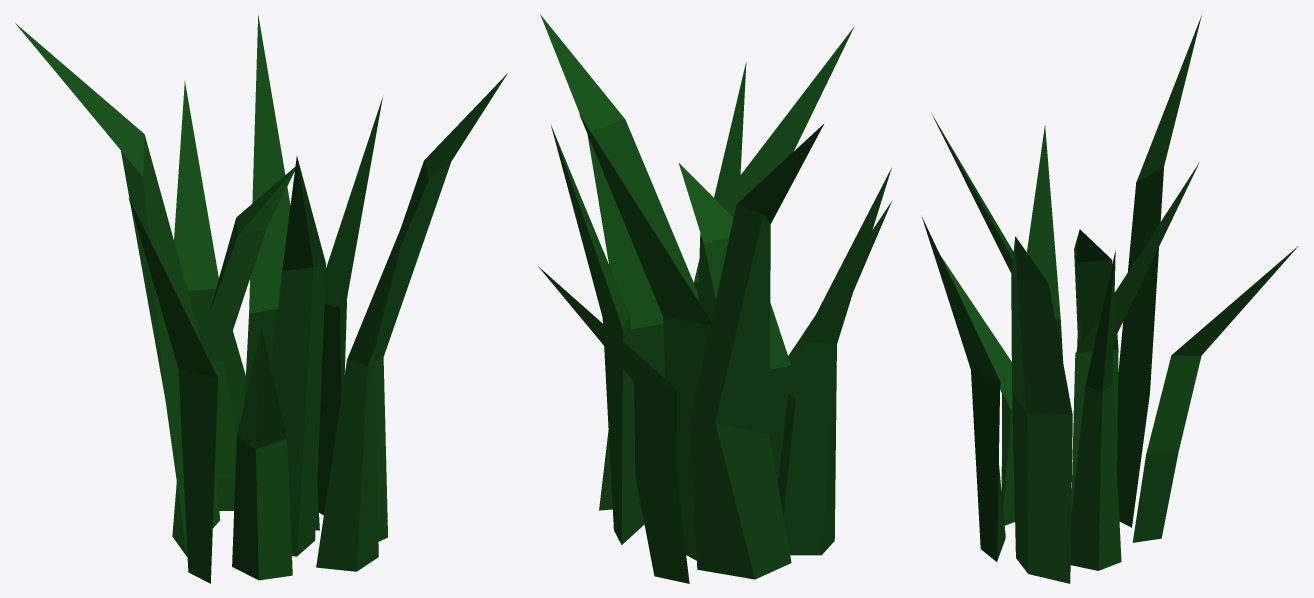
The model's file is grass 3.fbx.
3 views of the same model, side by side, from view 1: azimuth 30°, elevation 25°; view 2: azimuth 150°, elevation 25°; view 3: azimuth 270°, elevation 25° (orthographic). The views are drawn at different scales.
Parts seen in each view (by area): view 1: grass.002; view 2: grass.002; view 3: grass.002.
Boxes of the visible parts, box(x1,y1,x2,y2) form: grass.002: box(15, 15, 507, 583); grass.002: box(538, 14, 892, 583); grass.002: box(921, 15, 1298, 583).
Bounding box in the file's own units: 25.9 × 32.56 × 25.17.
